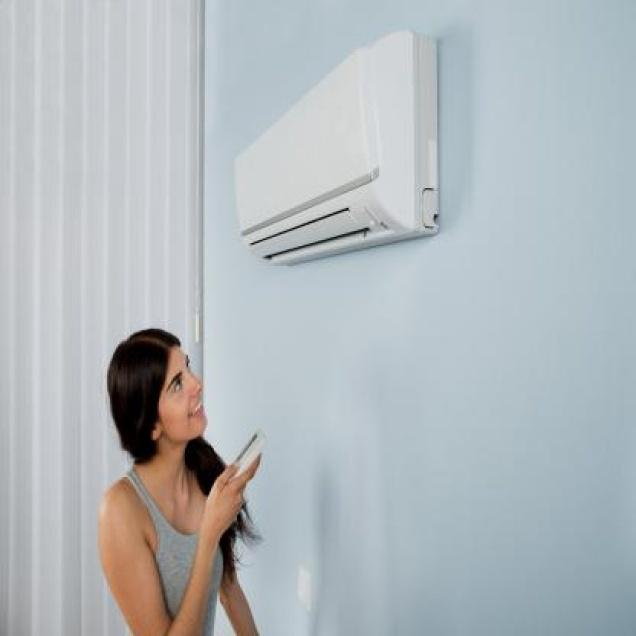AC: (232, 31, 439, 268)
